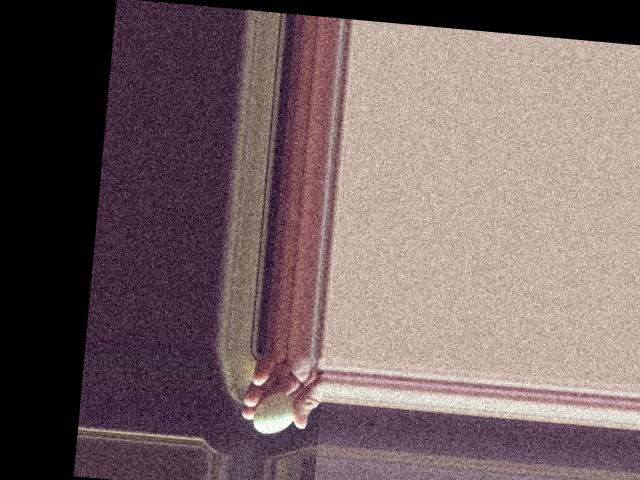egg: (252, 389, 296, 435)
